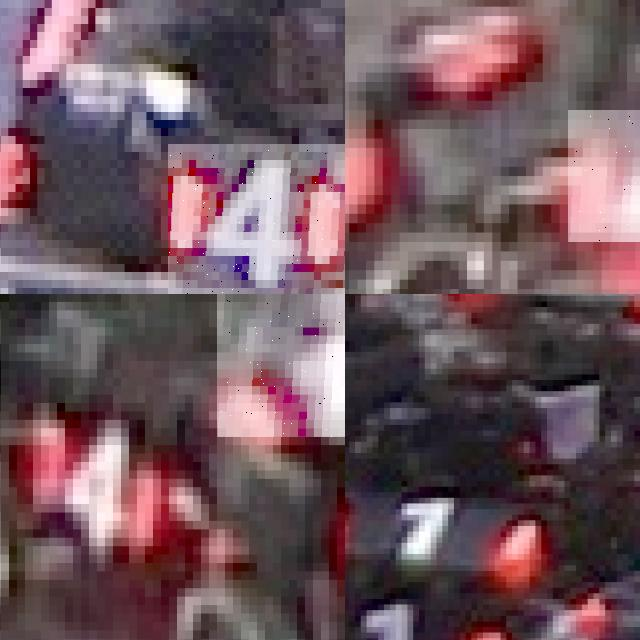R1: (345, 481, 547, 571), (345, 593, 512, 640)
R4: (168, 144, 345, 294), (17, 412, 169, 554), (217, 294, 345, 436), (568, 110, 640, 242)
